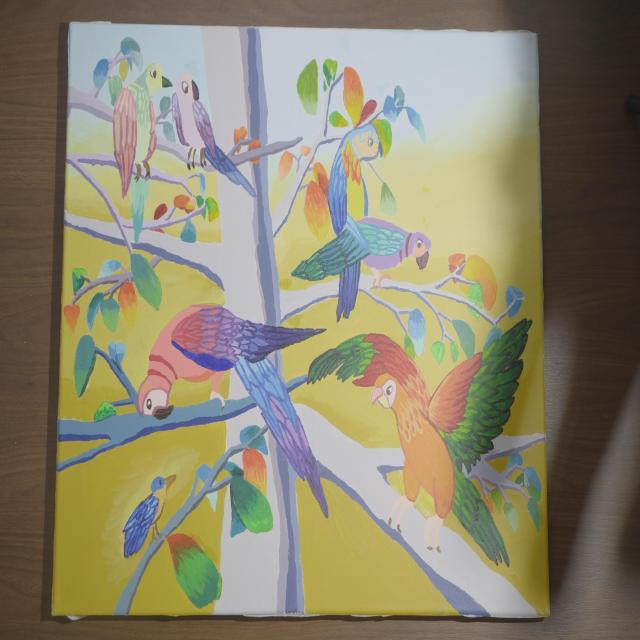painting: (53, 23, 548, 617)
